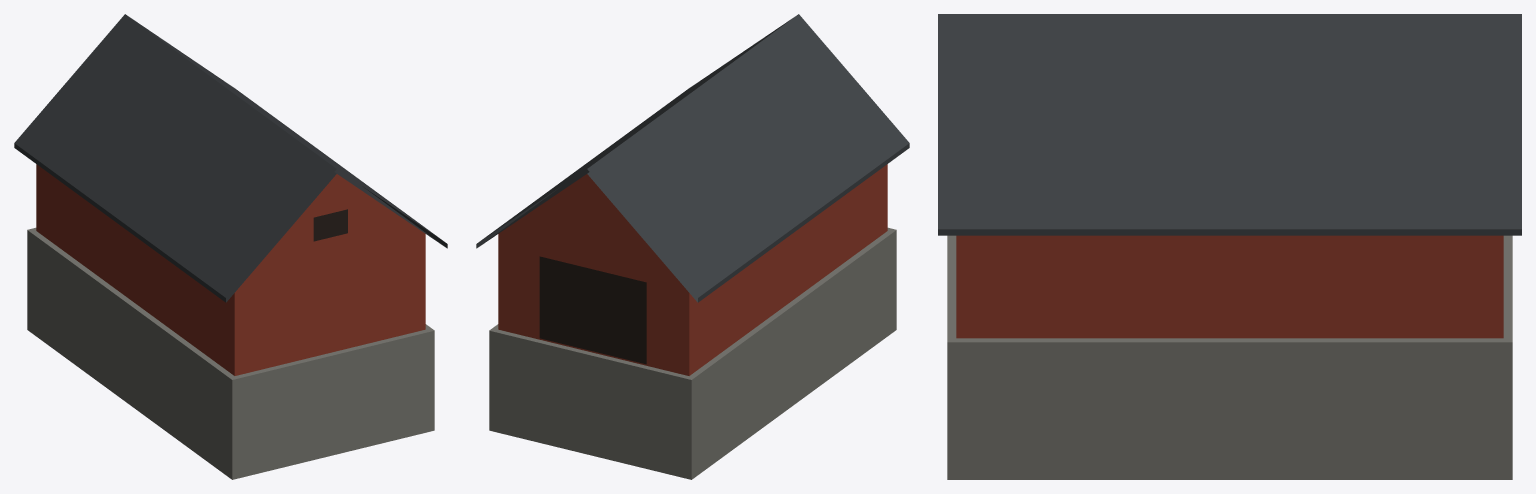
Rendered from naust_LOD0.glb.
The picture shows the model from 3 angles, left to right: view 1: azimuth 30°, elevation 25°; view 2: azimuth 150°, elevation 25°; view 3: azimuth 270°, elevation 25°; orthographic projection. The views are drawn at different scales.
Parts seen in each view (by area): view 1: Naust; view 2: Naust; view 3: Naust.
Part boxes in pixels (bbox=[...]): Naust: bbox=[14, 14, 447, 479]; Naust: bbox=[476, 14, 909, 479]; Naust: bbox=[938, 14, 1521, 479].
Size of the model in its own units: 5.8 by 7.22 by 9.6.
